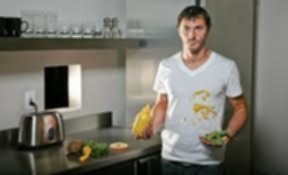mustard: (190, 103, 218, 123), (190, 88, 211, 101), (181, 117, 186, 122)
